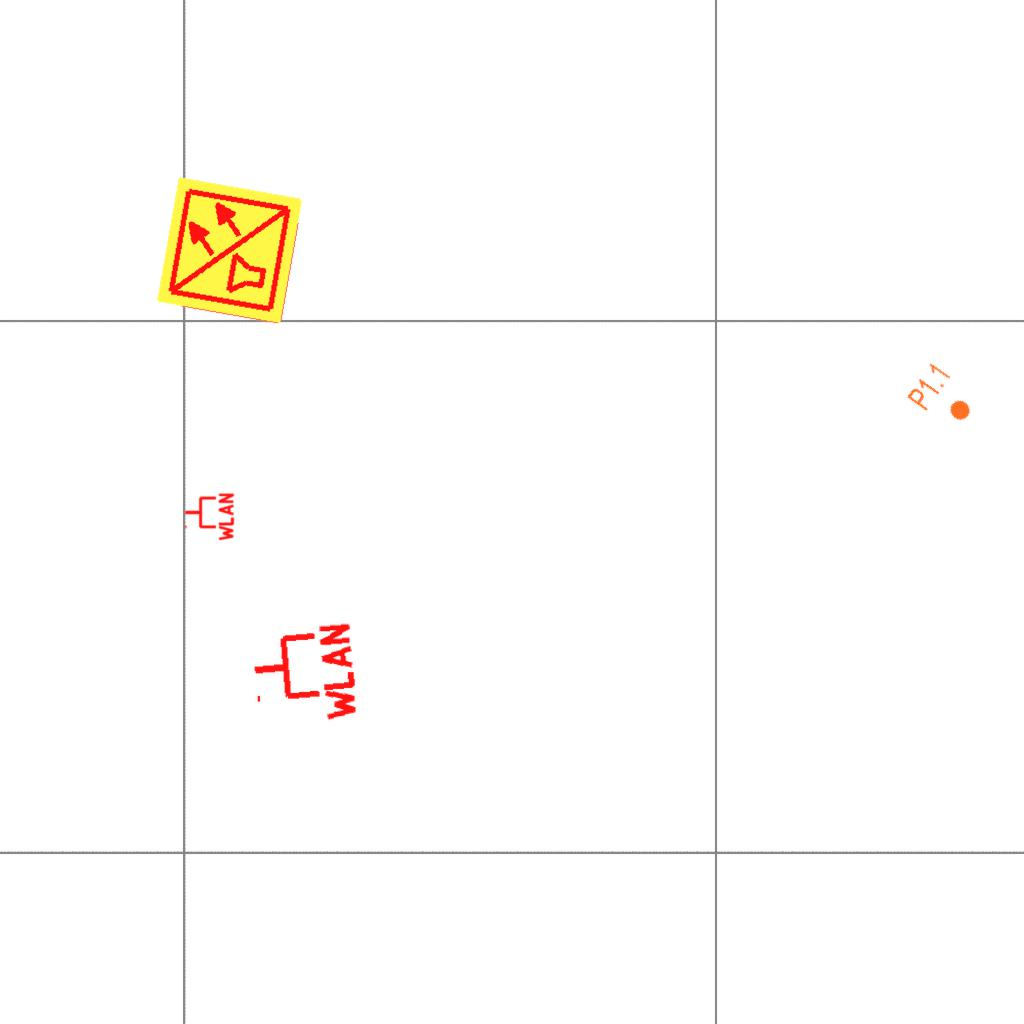Downlight_LED_Einbauleuchten_Flur: (904, 359, 984, 435)
OKW_Multisensormelder_(Kombination_optischer_Rauch-Kahlenmonoxid_Waerme-Melder): (153, 173, 307, 327)
WLAN: (246, 618, 361, 732), (183, 491, 235, 543)
